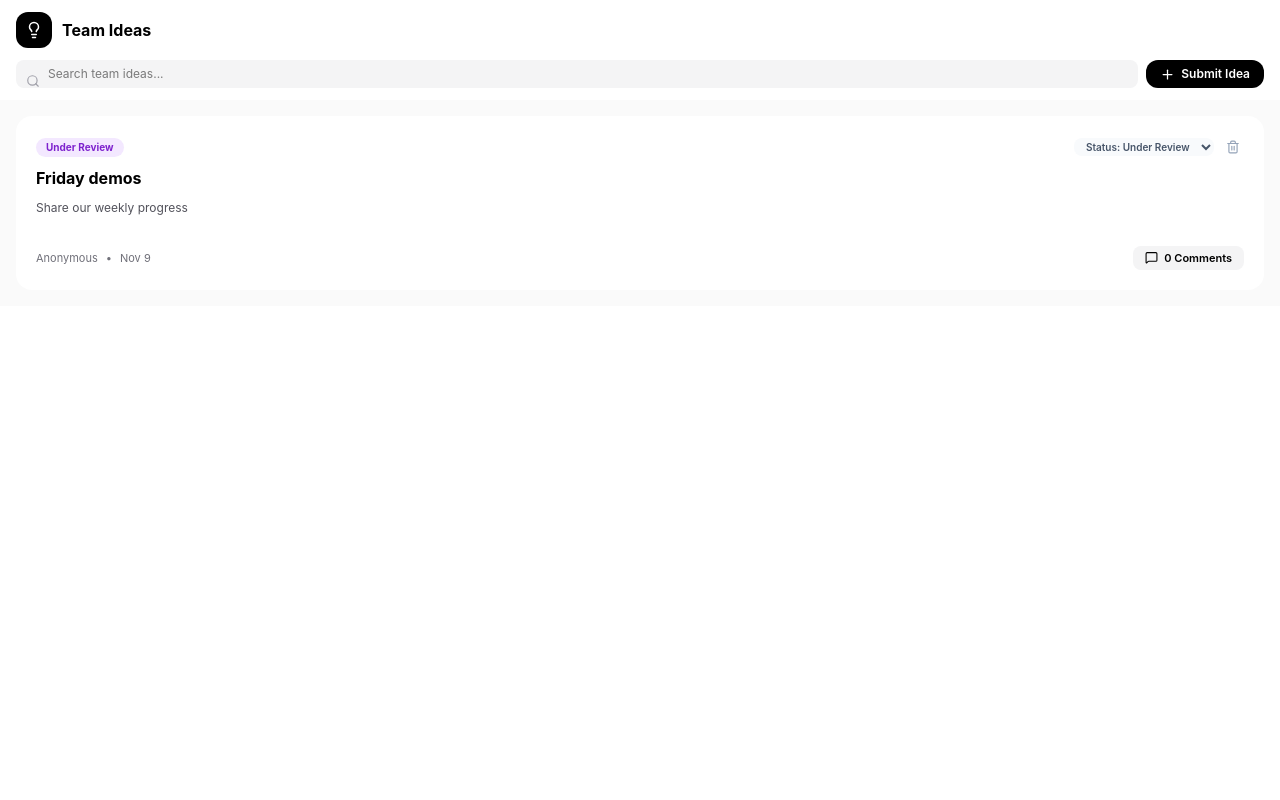
Test: Ideas feedback and recovery › preserves a failed comment and lets the user retry
The width and height of the screenshot is (1280, 800).
Click the button "0 Comments".
click(1189, 258)  # box [1133,246,1244,270]
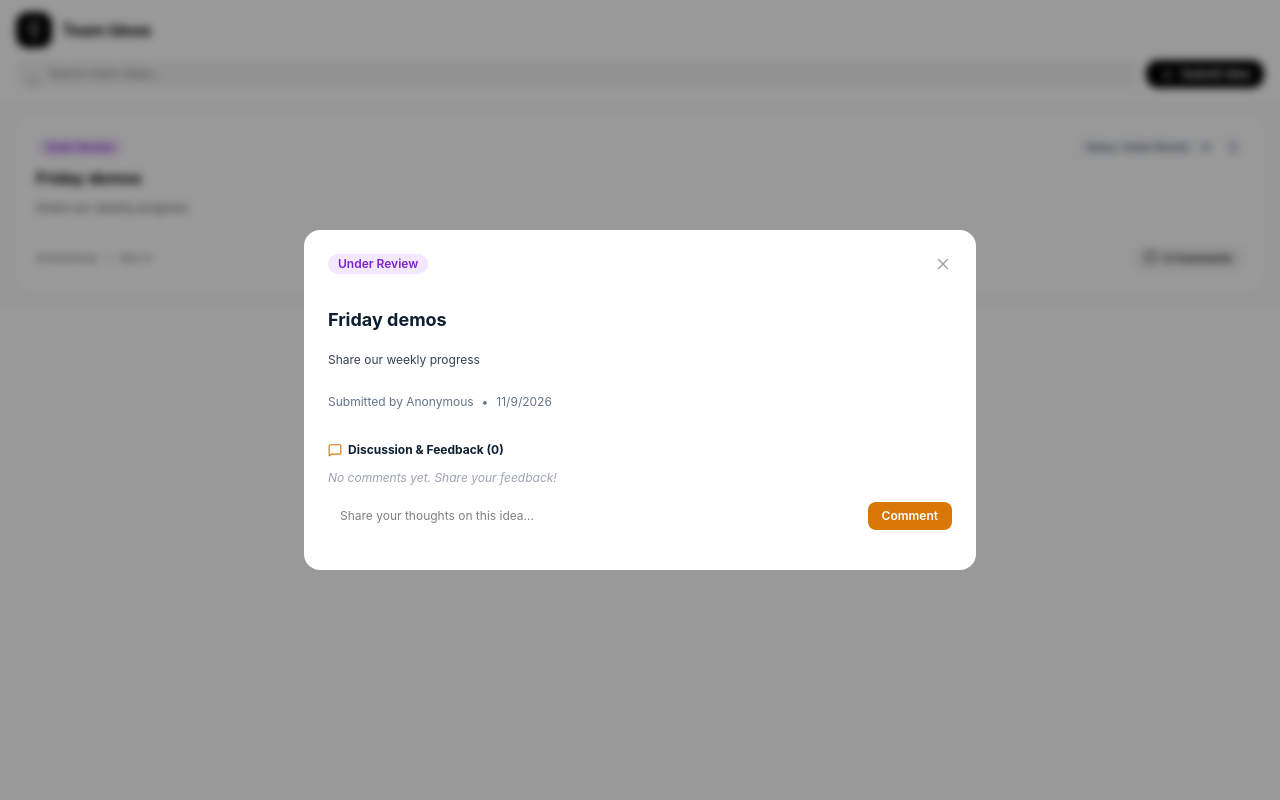
Type "Great suggestion" into the field named "Comment on idea".
click(594, 516); type("Great suggestion")  # box [328,502,860,530]
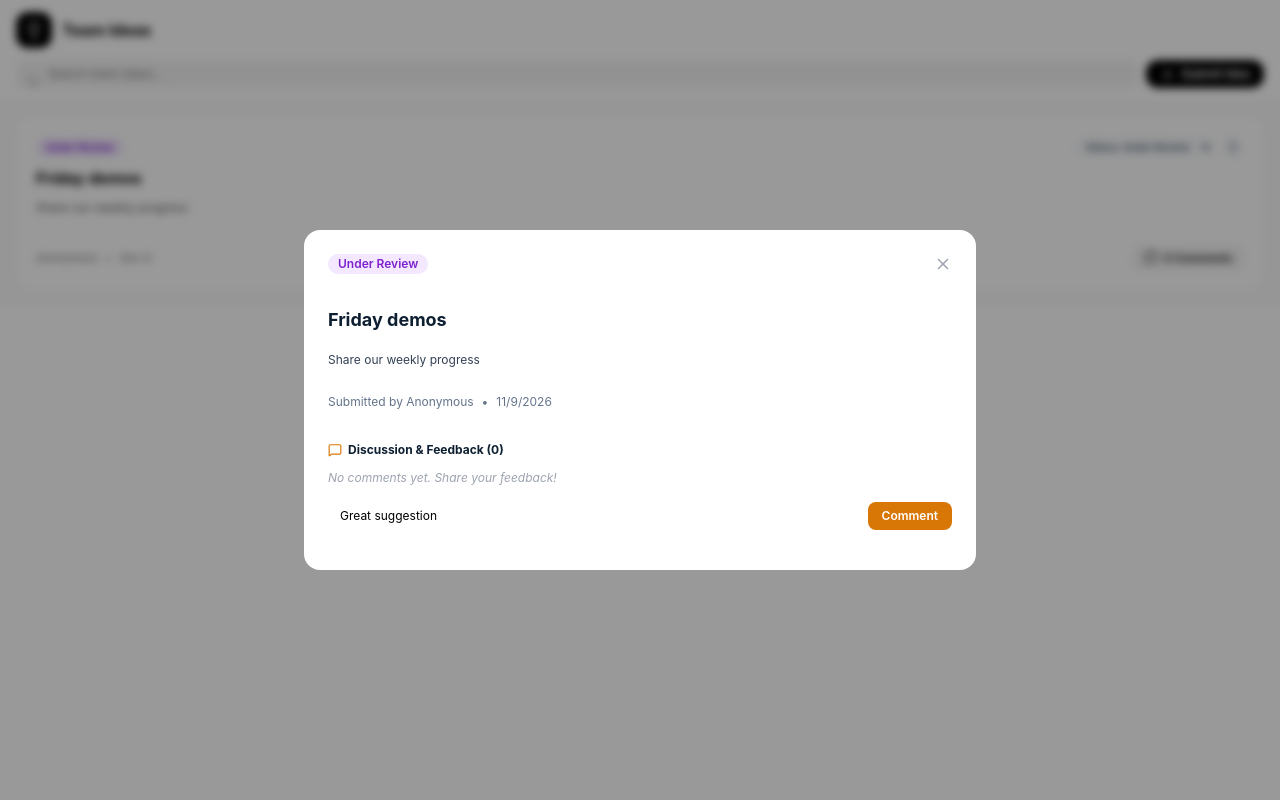
Click the button "Comment".
click(910, 516)  # box [868,502,952,530]
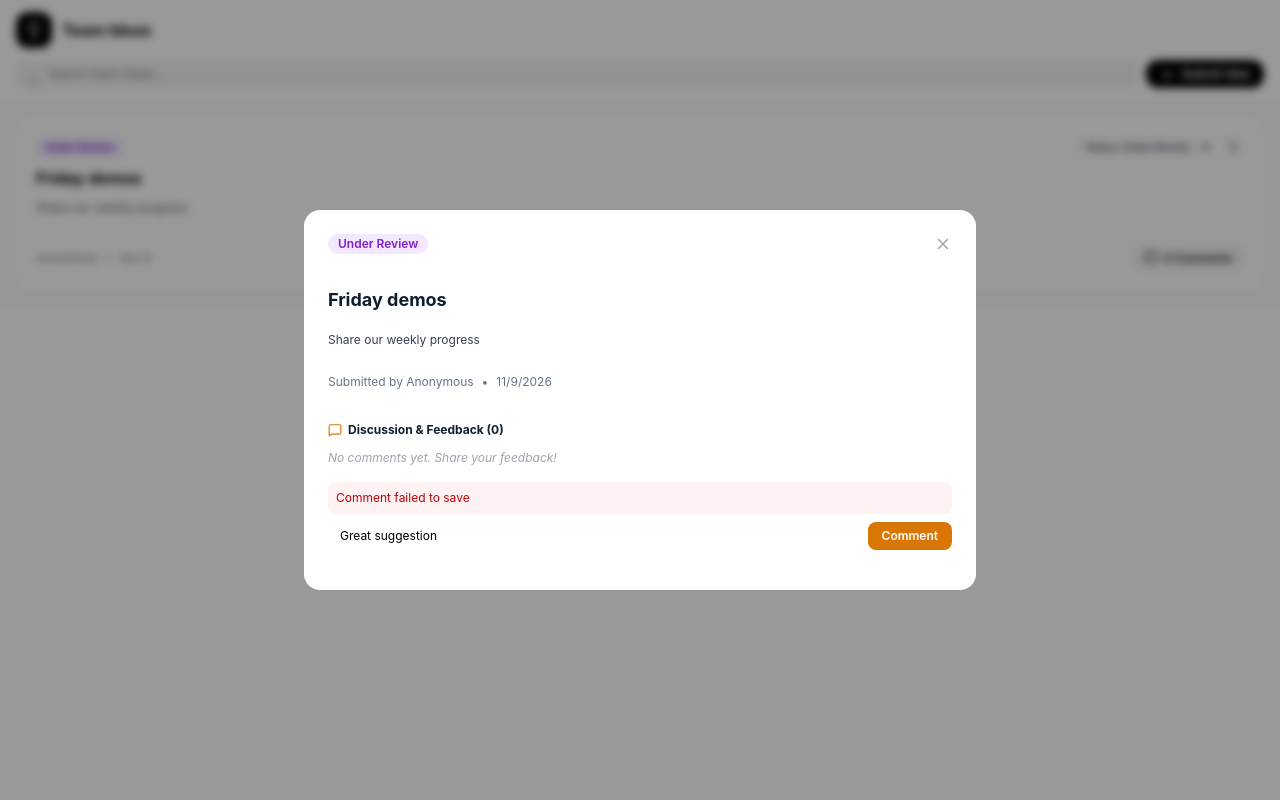
expect the message reads "Comment failed to save": met, box [336,490,470,505]
